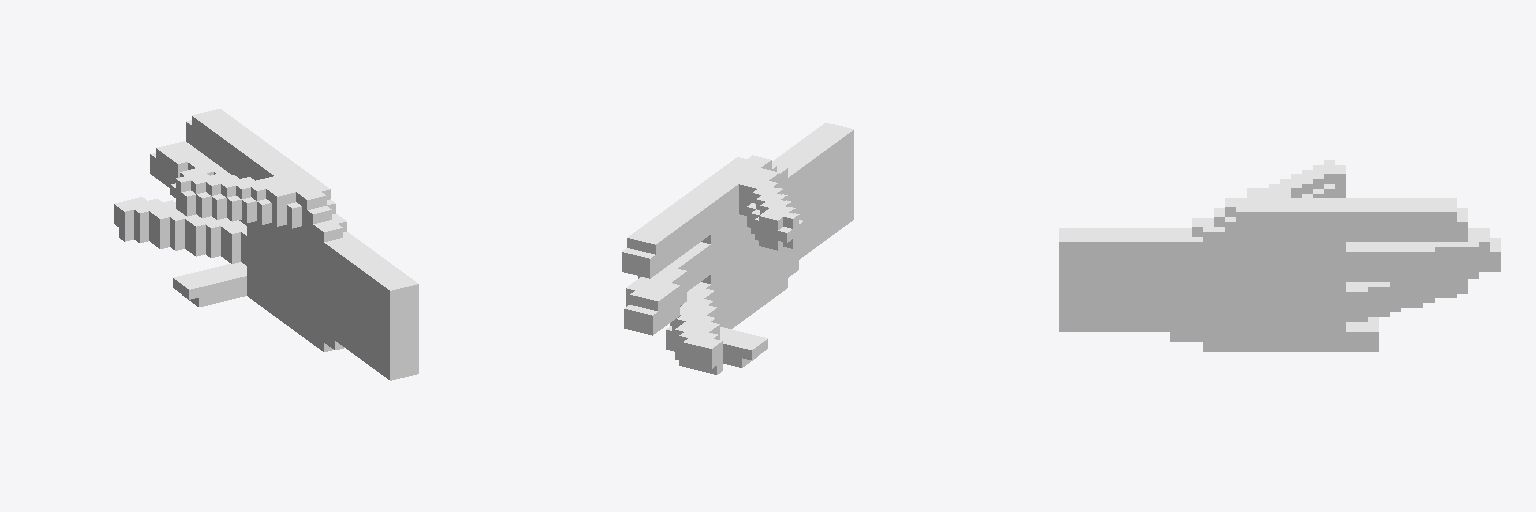
File: RightHand02.obj
3 views of the same model, side by side, from view 1: azimuth 30°, elevation 25°; view 2: azimuth 150°, elevation 25°; view 3: azimuth 270°, elevation 25° (orthographic).
Visible parts, largest first — view 1: object 1; view 2: object 1; view 3: object 1.
Boxes of the visible parts, x1,y1,x2,y2 form: object 1: [114, 109, 418, 380]; object 1: [622, 123, 853, 374]; object 1: [1059, 160, 1500, 351].
Bounding box in the file's own units: 1.1 × 1.4 × 4.